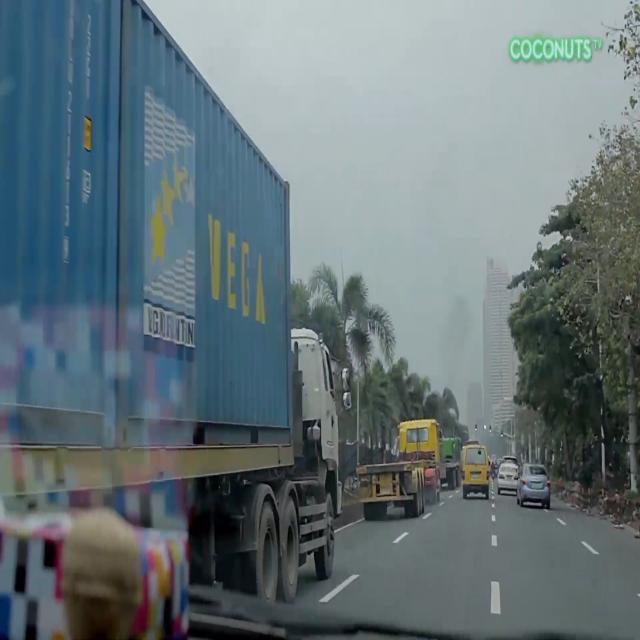truck: (0, 0, 354, 601), (356, 418, 442, 520)
